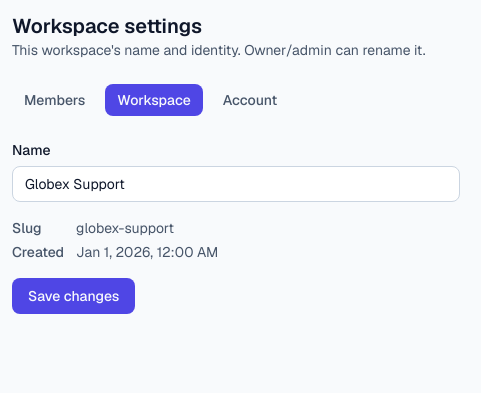
Test: WorkspaceSettingsPage › an owner/admin can rename the workspace, and the server-authoritative name is reflected
Step 1. Replace the text in the field showing "Globex Support" with "Globex Renamed" → (236, 184), box [12,166,460,202]
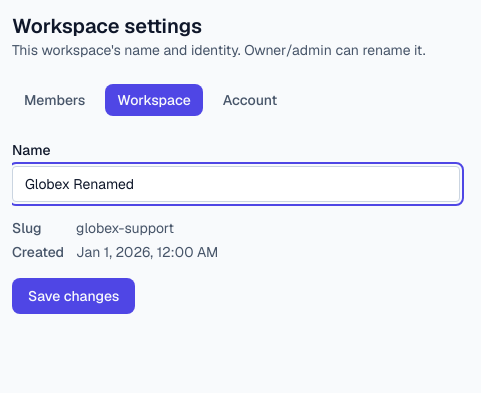
Step 2. Click the button "Save changes" → click(74, 296), box [12,278,135,314]
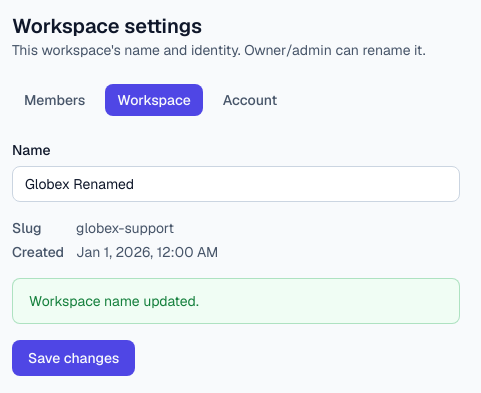
Now the text "Workspace name updated." is shown, box [29,292,199,310]
